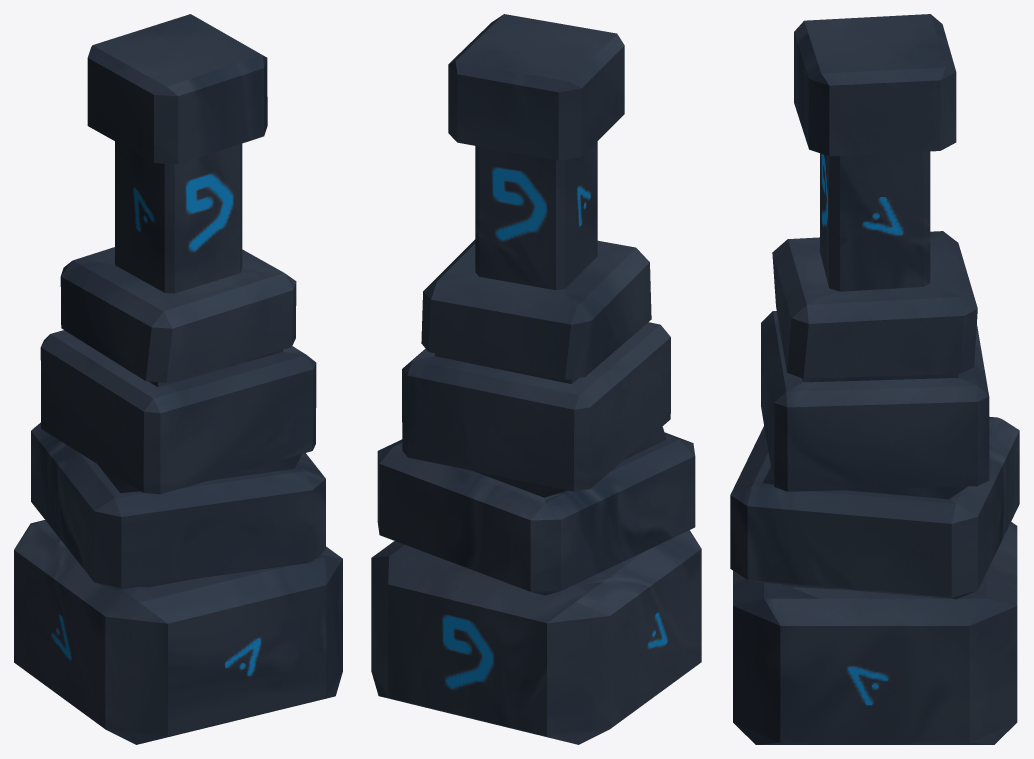
File: Pillar.obj
The picture shows the model from 3 angles, left to right: view 1: azimuth 30°, elevation 25°; view 2: azimuth 150°, elevation 25°; view 3: azimuth 270°, elevation 25°; orthographic projection. The views are drawn at different scales.
Visible parts, largest first — view 1: pCube1; view 2: pCube1; view 3: pCube1.
Part boxes in pixels (x1,y1,x2,y2): pCube1: (14, 14, 342, 744); pCube1: (371, 14, 701, 744); pCube1: (730, 14, 1019, 744).
Bounding box in the file's own units: 1.02 × 2.53 × 1.02.
Materials: 1 (1 with a texture image).
